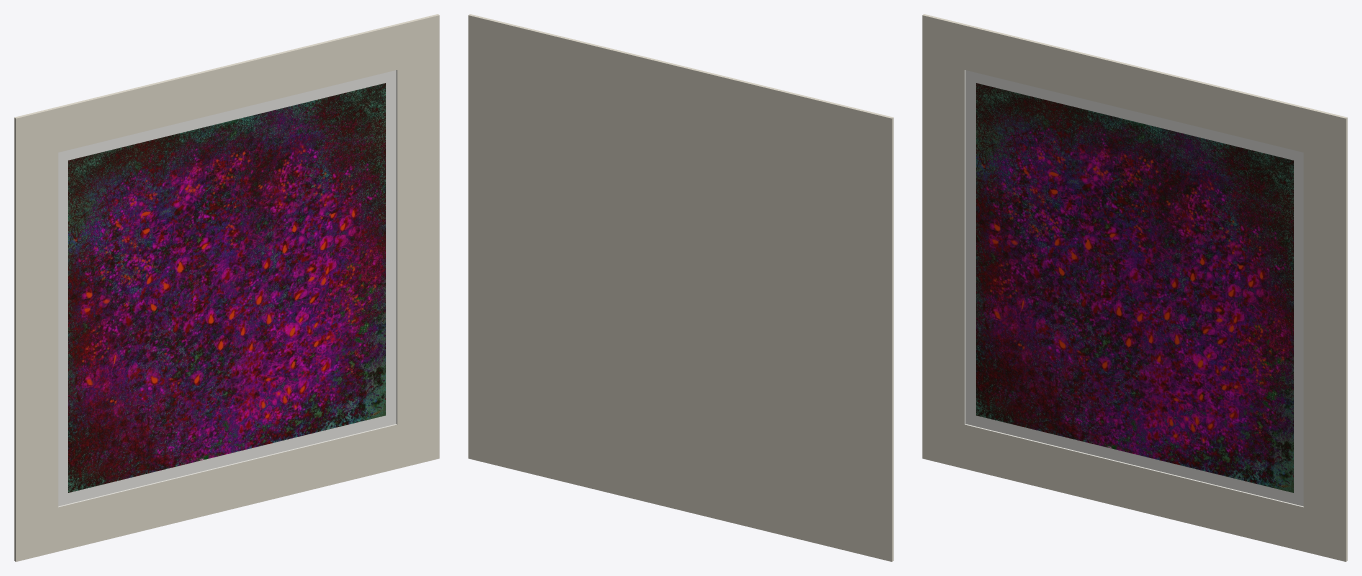
The model's file is va335_moyen_passe-partout.glb.
The picture shows the model from 3 angles, left to right: view 1: azimuth 30°, elevation 25°; view 2: azimuth 150°, elevation 25°; view 3: azimuth 330°, elevation 25°; orthographic projection.
Visible parts, largest first — view 1: va335_moyen_passe-partout; view 2: va335_moyen_passe-partout; view 3: va335_moyen_passe-partout.
Boxes of the visible parts, bbox=[...] form: va335_moyen_passe-partout: bbox=[14, 14, 439, 561]; va335_moyen_passe-partout: bbox=[468, 14, 893, 561]; va335_moyen_passe-partout: bbox=[922, 14, 1347, 561].
Bounding box in the file's own units: 0.8 × 0.8 × 0.0055.
4 materials, 1 textured.
